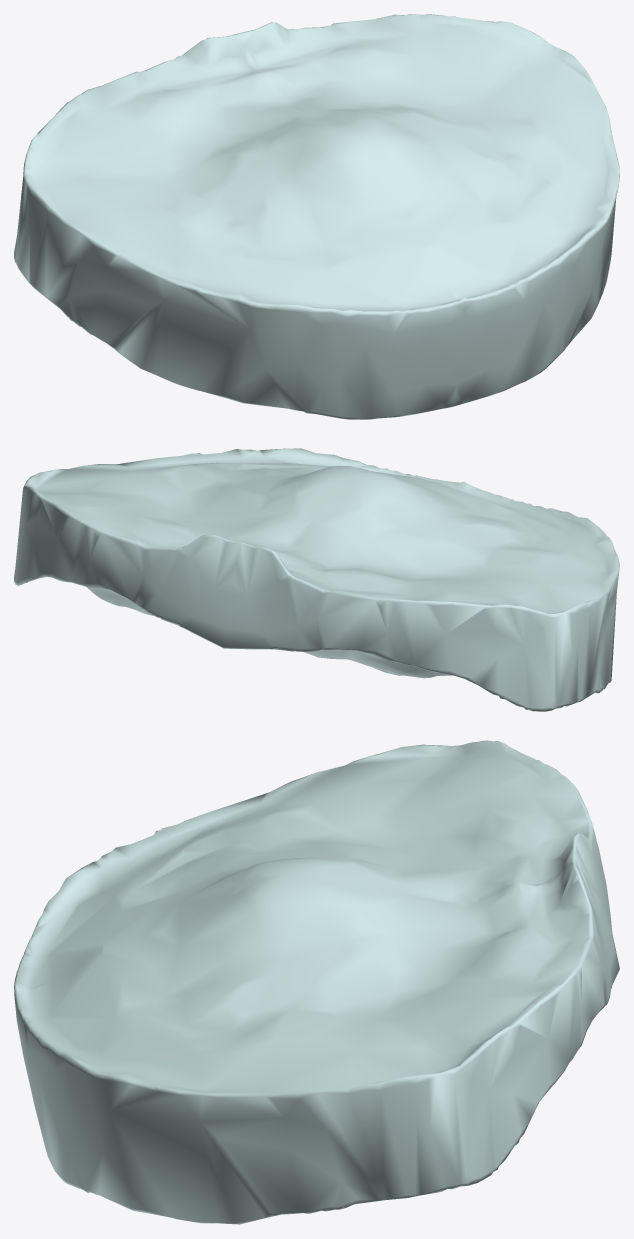
The model's file is Intervertebral_disc_L4-L5_Generated_Mesh_From_X3D.088.glb.
The picture shows the model from 3 angles, top to bottom: view 1: azimuth 30°, elevation 25°; view 2: azimuth 150°, elevation 25°; view 3: azimuth 270°, elevation 25°; orthographic projection. The views are drawn at different scales.
Parts seen in each view (by area): view 1: Intervertebral_disc_L4-L5_Generated_Mesh_From_X3D.088; view 2: Intervertebral_disc_L4-L5_Generated_Mesh_From_X3D.088; view 3: Intervertebral_disc_L4-L5_Generated_Mesh_From_X3D.088.
Part boxes in pixels (x1,y1,x2,y2): Intervertebral_disc_L4-L5_Generated_Mesh_From_X3D.088: (14, 14, 619, 419); Intervertebral_disc_L4-L5_Generated_Mesh_From_X3D.088: (14, 448, 619, 711); Intervertebral_disc_L4-L5_Generated_Mesh_From_X3D.088: (14, 740, 619, 1224).
Size of the model in its own units: 0.0507 by 0.0196 by 0.0388.
